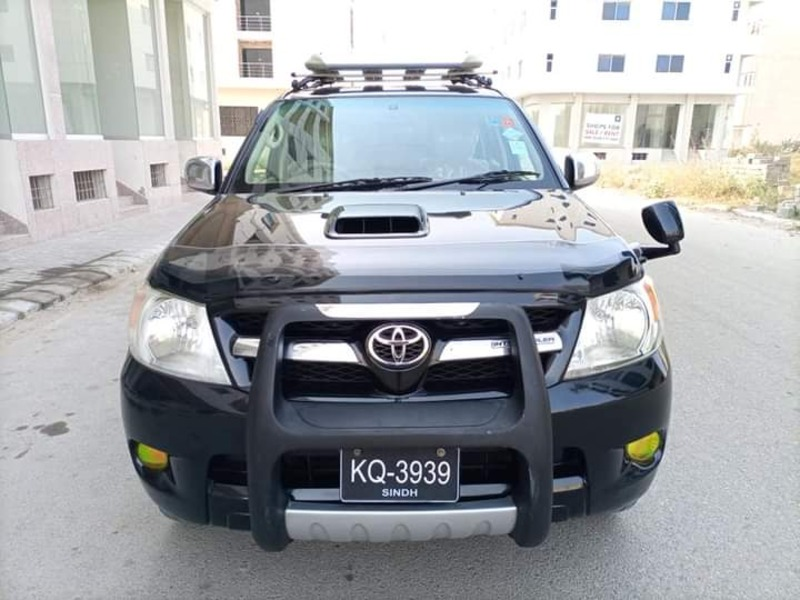License Plate: (334, 441, 462, 511)
